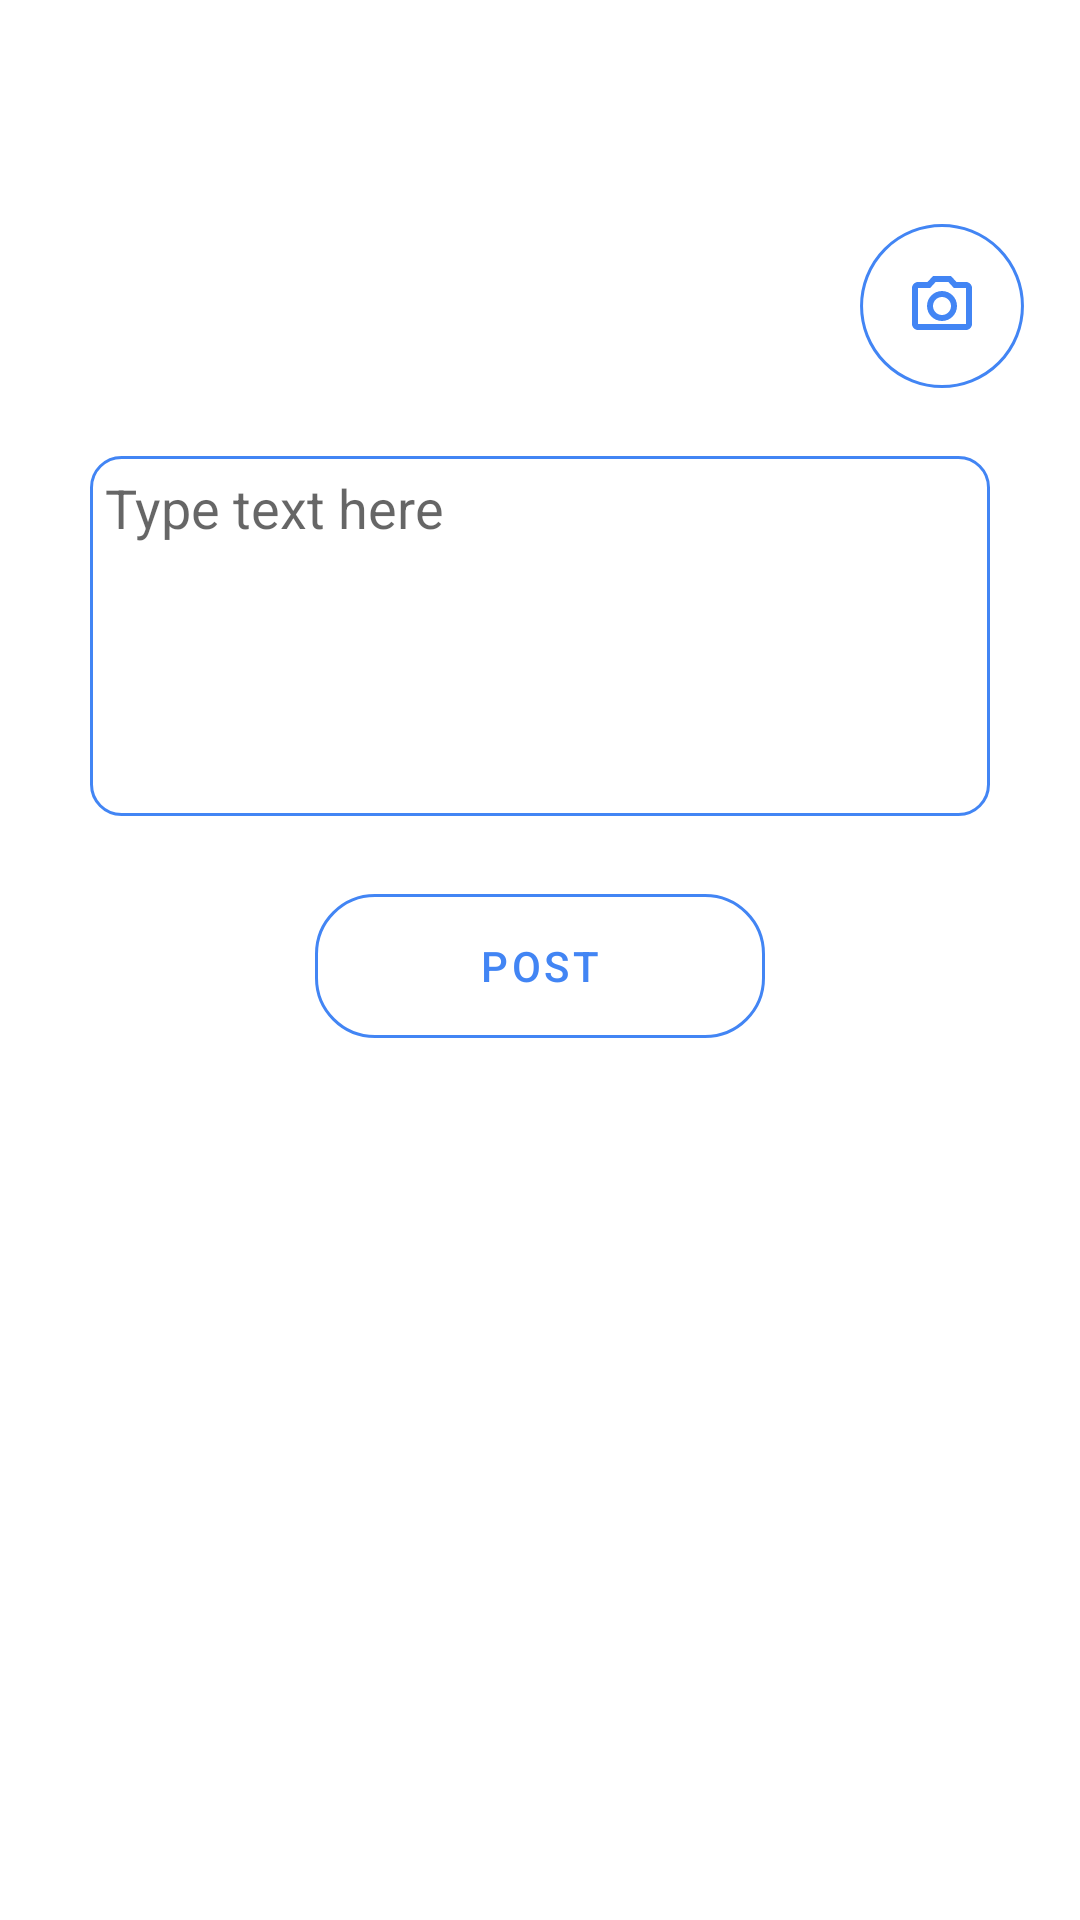

Point at icon controls on the screen. Image size 1080 × 1920, points as point (x, y).
camera: point (942, 306)
